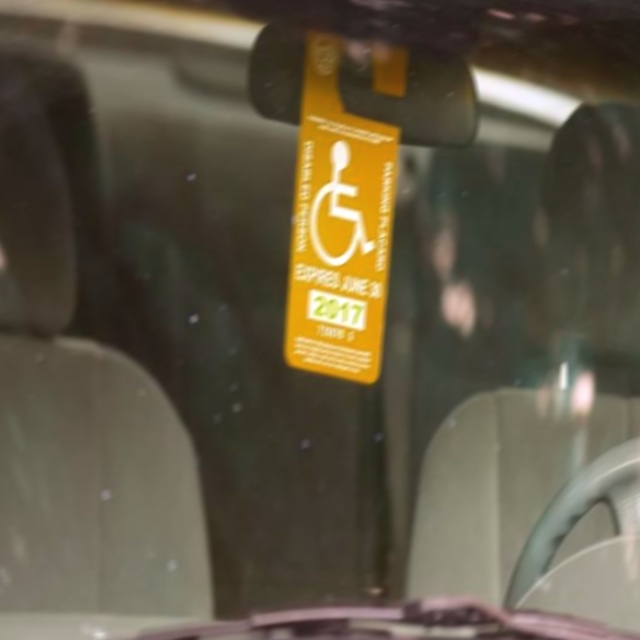ISA: (310, 128, 381, 271)
